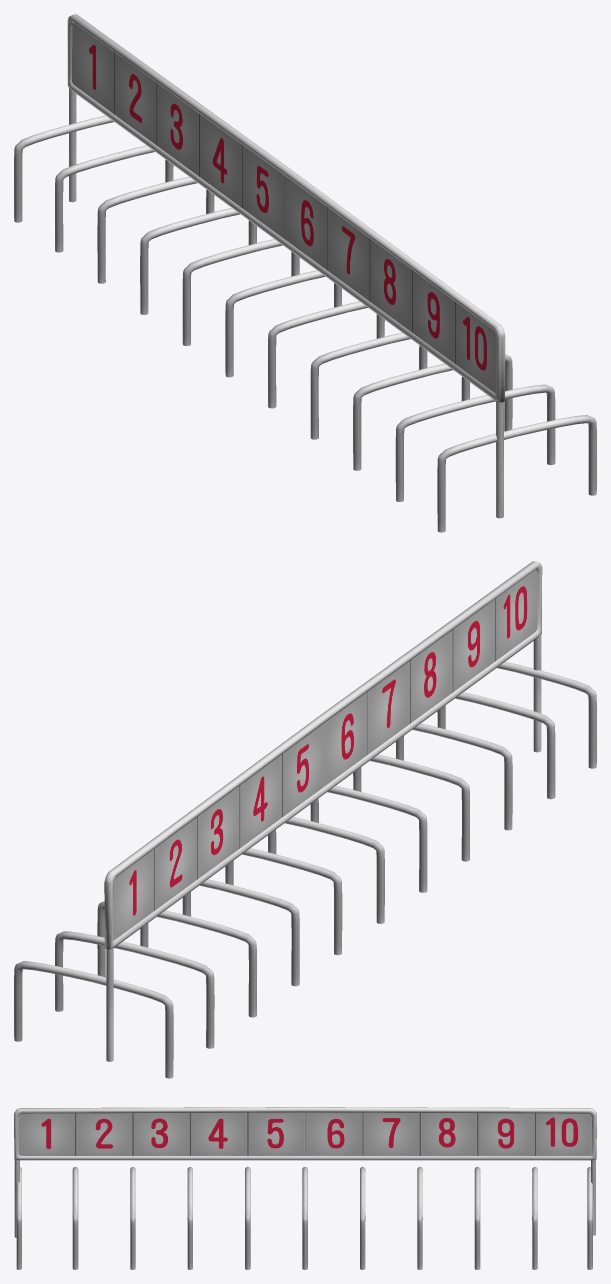
3 views of the same model, one above another, from view 1: azimuth 30°, elevation 25°; view 2: azimuth 150°, elevation 25°; view 3: azimuth 270°, elevation 25° (orthographic). The views are drawn at different scales.
Parts seen in each view (by area): view 1: Box03; view 2: Box03; view 3: Box03.
Boxes of the visible parts, x1=… form: Box03: x1=14, y1=14, x2=596, y2=532; Box03: x1=14, y1=561, x2=596, y2=1078; Box03: x1=14, y1=1107, x2=596, y2=1269.
Bounding box in the file's own units: 0.1337 × 0.6317 × 0.156.
